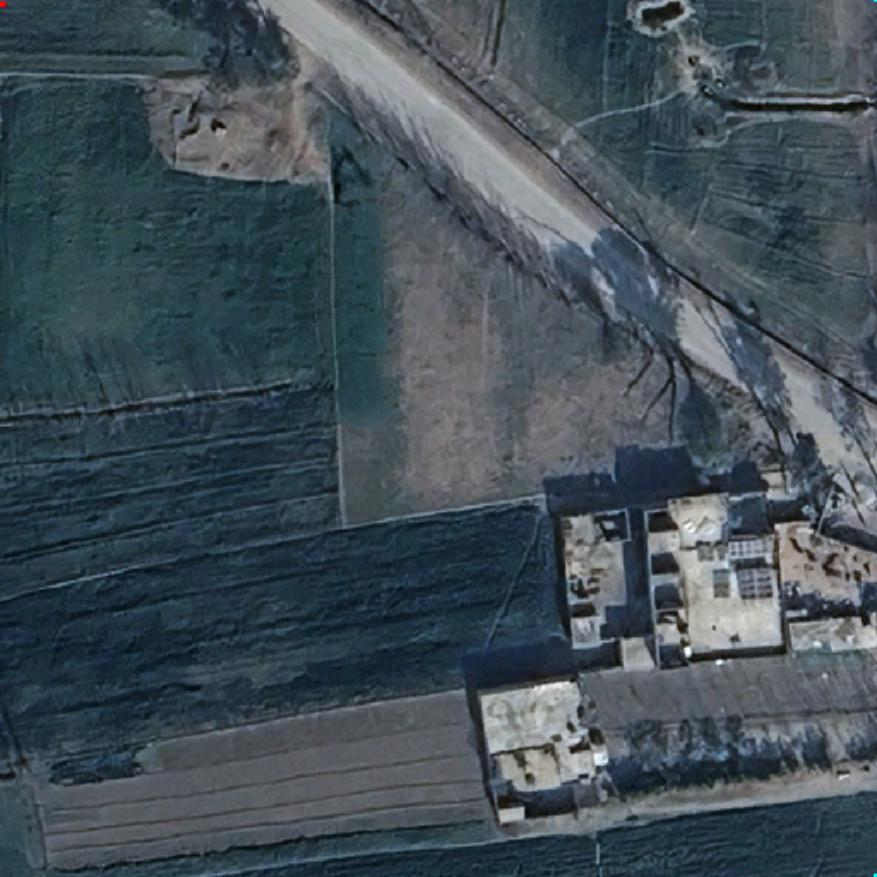Solarpanel: (734, 563, 776, 603), (724, 534, 768, 560)
